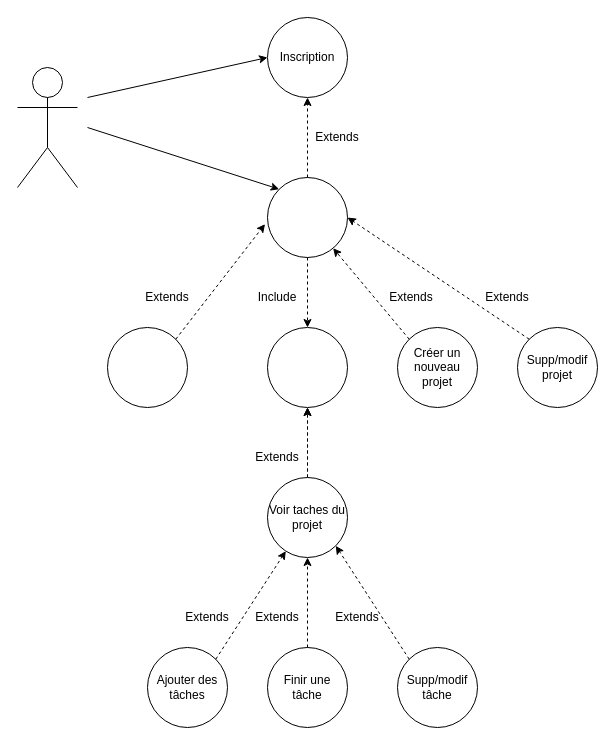
The diagram is 615 pixels wide and 745 high, and some of its shapes have lost their labels. The centre of each missing label's shape, as x and y in pixels:
Actor: the point at 47,127
Connexion: the point at 307,217
Deconnexion: the point at 147,367
Voir tous les projets: the point at 307,367
